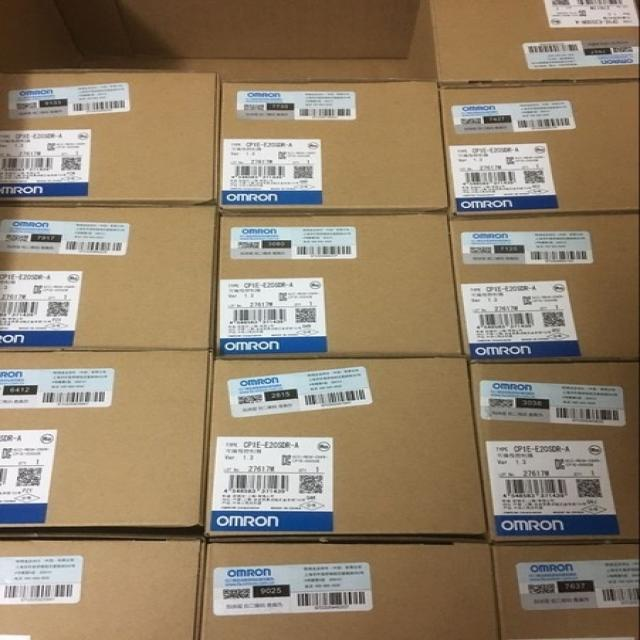box: (204, 355, 488, 542), (0, 349, 213, 534), (213, 213, 464, 358), (0, 204, 220, 350), (217, 76, 448, 214), (470, 361, 640, 544), (197, 539, 501, 640), (0, 69, 221, 205), (448, 210, 640, 364), (437, 79, 640, 217), (0, 531, 204, 640), (409, 0, 640, 82), (490, 542, 639, 640)
